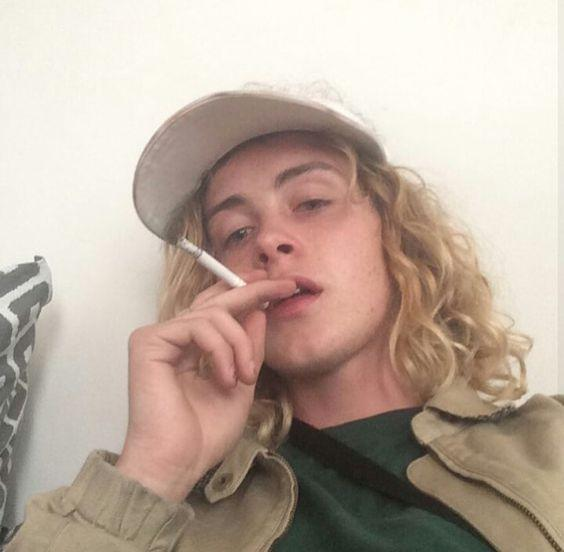cigarette: (176, 237, 247, 287)
